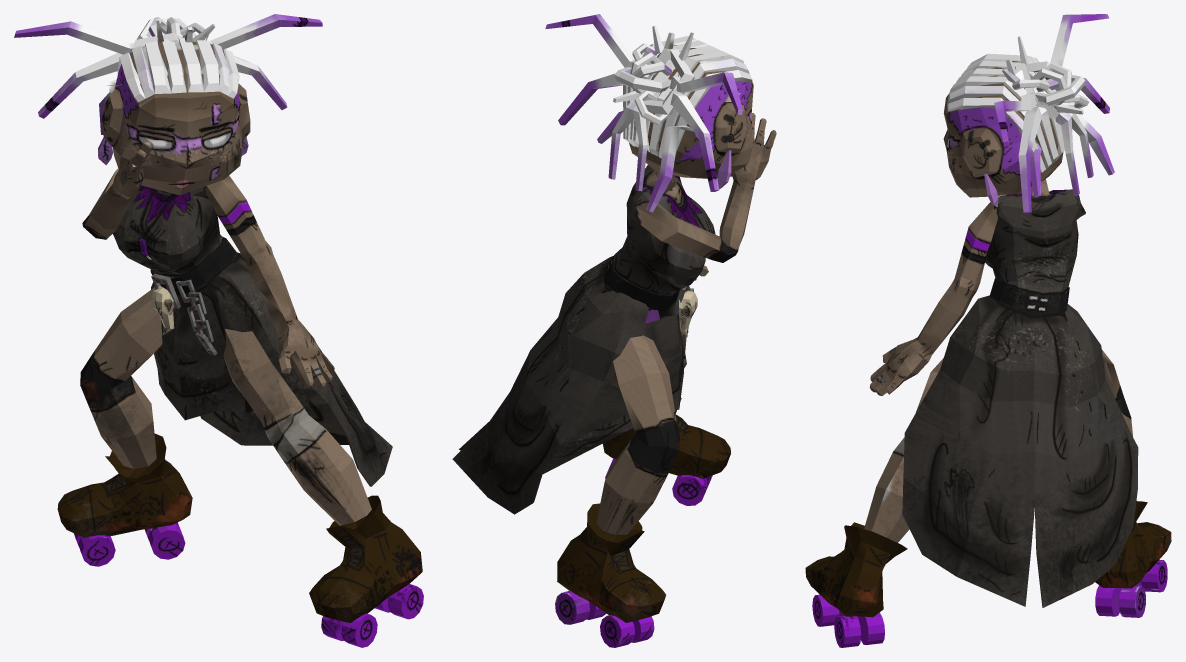
File: bruja_000040.obj
The picture shows the model from 3 angles, left to right: view 1: azimuth 30°, elevation 25°; view 2: azimuth 150°, elevation 25°; view 3: azimuth 270°, elevation 25°; orthographic projection. The views are drawn at different scales.
Visible parts, largest first — view 1: Bruja_Plane.001; view 2: Bruja_Plane.001; view 3: Bruja_Plane.001.
Boxes of the visible parts, x1=… form: Bruja_Plane.001: x1=14, y1=14, x2=423, y2=647; Bruja_Plane.001: x1=452, y1=14, x2=776, y2=647; Bruja_Plane.001: x1=805, y1=14, x2=1171, y2=647.
Size of the model in its own units: 9.26 by 15.44 by 9.24.
